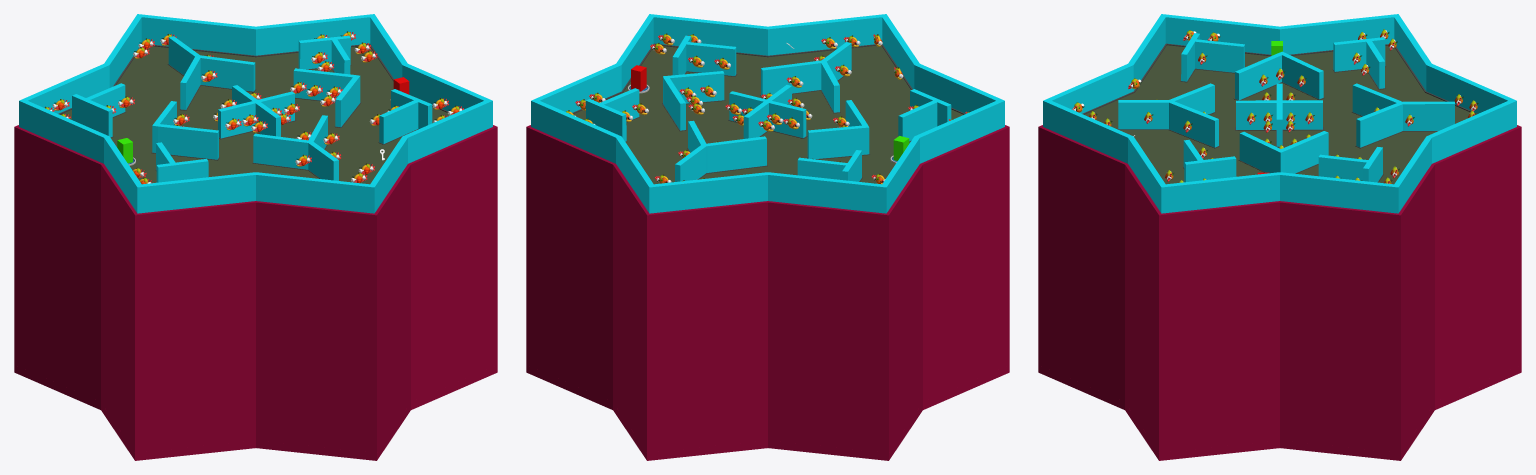
Rendered from Level_6.fbx.
The picture shows the model from 3 angles, left to right: view 1: azimuth 30°, elevation 25°; view 2: azimuth 150°, elevation 25°; view 3: azimuth 270°, elevation 25°; orthographic projection.
Parts seen in each view (by area): view 1: CompoundWall__1_, CompoundWall, Base, Walls_5, Walls_2, Walls_4, Walls, Walls_12, Walls_7, Walls_17, Walls_19, Walls_15 (+9 smaller); view 2: CompoundWall__1_, CompoundWall, Base, Walls_6, Walls_3, Walls_1, Walls, Walls_12, Walls_8, Walls_14, Walls_19, Walls_9 (+7 smaller); view 3: CompoundWall__1_, CompoundWall, Base, Walls_9, Walls_11, Walls_1, Walls_4, Walls_10, Walls_14, Walls_5, Walls_8, Walls_7 (+9 smaller).
Part boxes in pixels (box(x1,y1,x2,y2)): CompoundWall__1_: box(14, 125, 497, 460); CompoundWall: box(19, 14, 492, 213); Base: box(60, 45, 448, 184); Walls_5: box(158, 124, 219, 160); Walls_2: box(252, 133, 313, 170); Walls_4: box(195, 55, 256, 92); Walls: box(218, 91, 296, 139); Walls_12: box(378, 99, 419, 144); Walls_7: box(293, 68, 354, 102); Walls_17: box(72, 94, 113, 137); Walls_19: box(298, 35, 351, 69); Walls_15: box(156, 159, 208, 182); CompoundWall__1_: box(526, 125, 1009, 460); CompoundWall: box(531, 14, 1004, 213); Base: box(573, 45, 963, 184); Walls_6: box(807, 125, 870, 159); Walls_3: box(706, 136, 767, 173); Walls_1: box(760, 60, 821, 97); Walls: box(728, 91, 807, 138); Walls_12: box(684, 41, 736, 76); Walls_8: box(662, 71, 725, 105); Walls_14: box(898, 100, 937, 141); Walls_19: box(585, 99, 627, 141); Walls_9: box(743, 85, 791, 138); CompoundWall__1_: box(1038, 125, 1521, 460); CompoundWall: box(1043, 14, 1516, 213); Base: box(1084, 45, 1469, 184); Walls_9: box(1235, 100, 1324, 130); Walls_11: box(1402, 101, 1454, 131); Walls_1: box(1170, 101, 1219, 148); Walls_4: box(1355, 101, 1402, 148); Walls_10: box(1117, 100, 1170, 129); Walls_14: box(1195, 39, 1244, 73); Walls_5: box(1234, 53, 1281, 100); Walls_8: box(1238, 131, 1284, 173); Walls_7: box(1281, 131, 1328, 173).
Size of the model in its own units: 250 by 179 by 288.
